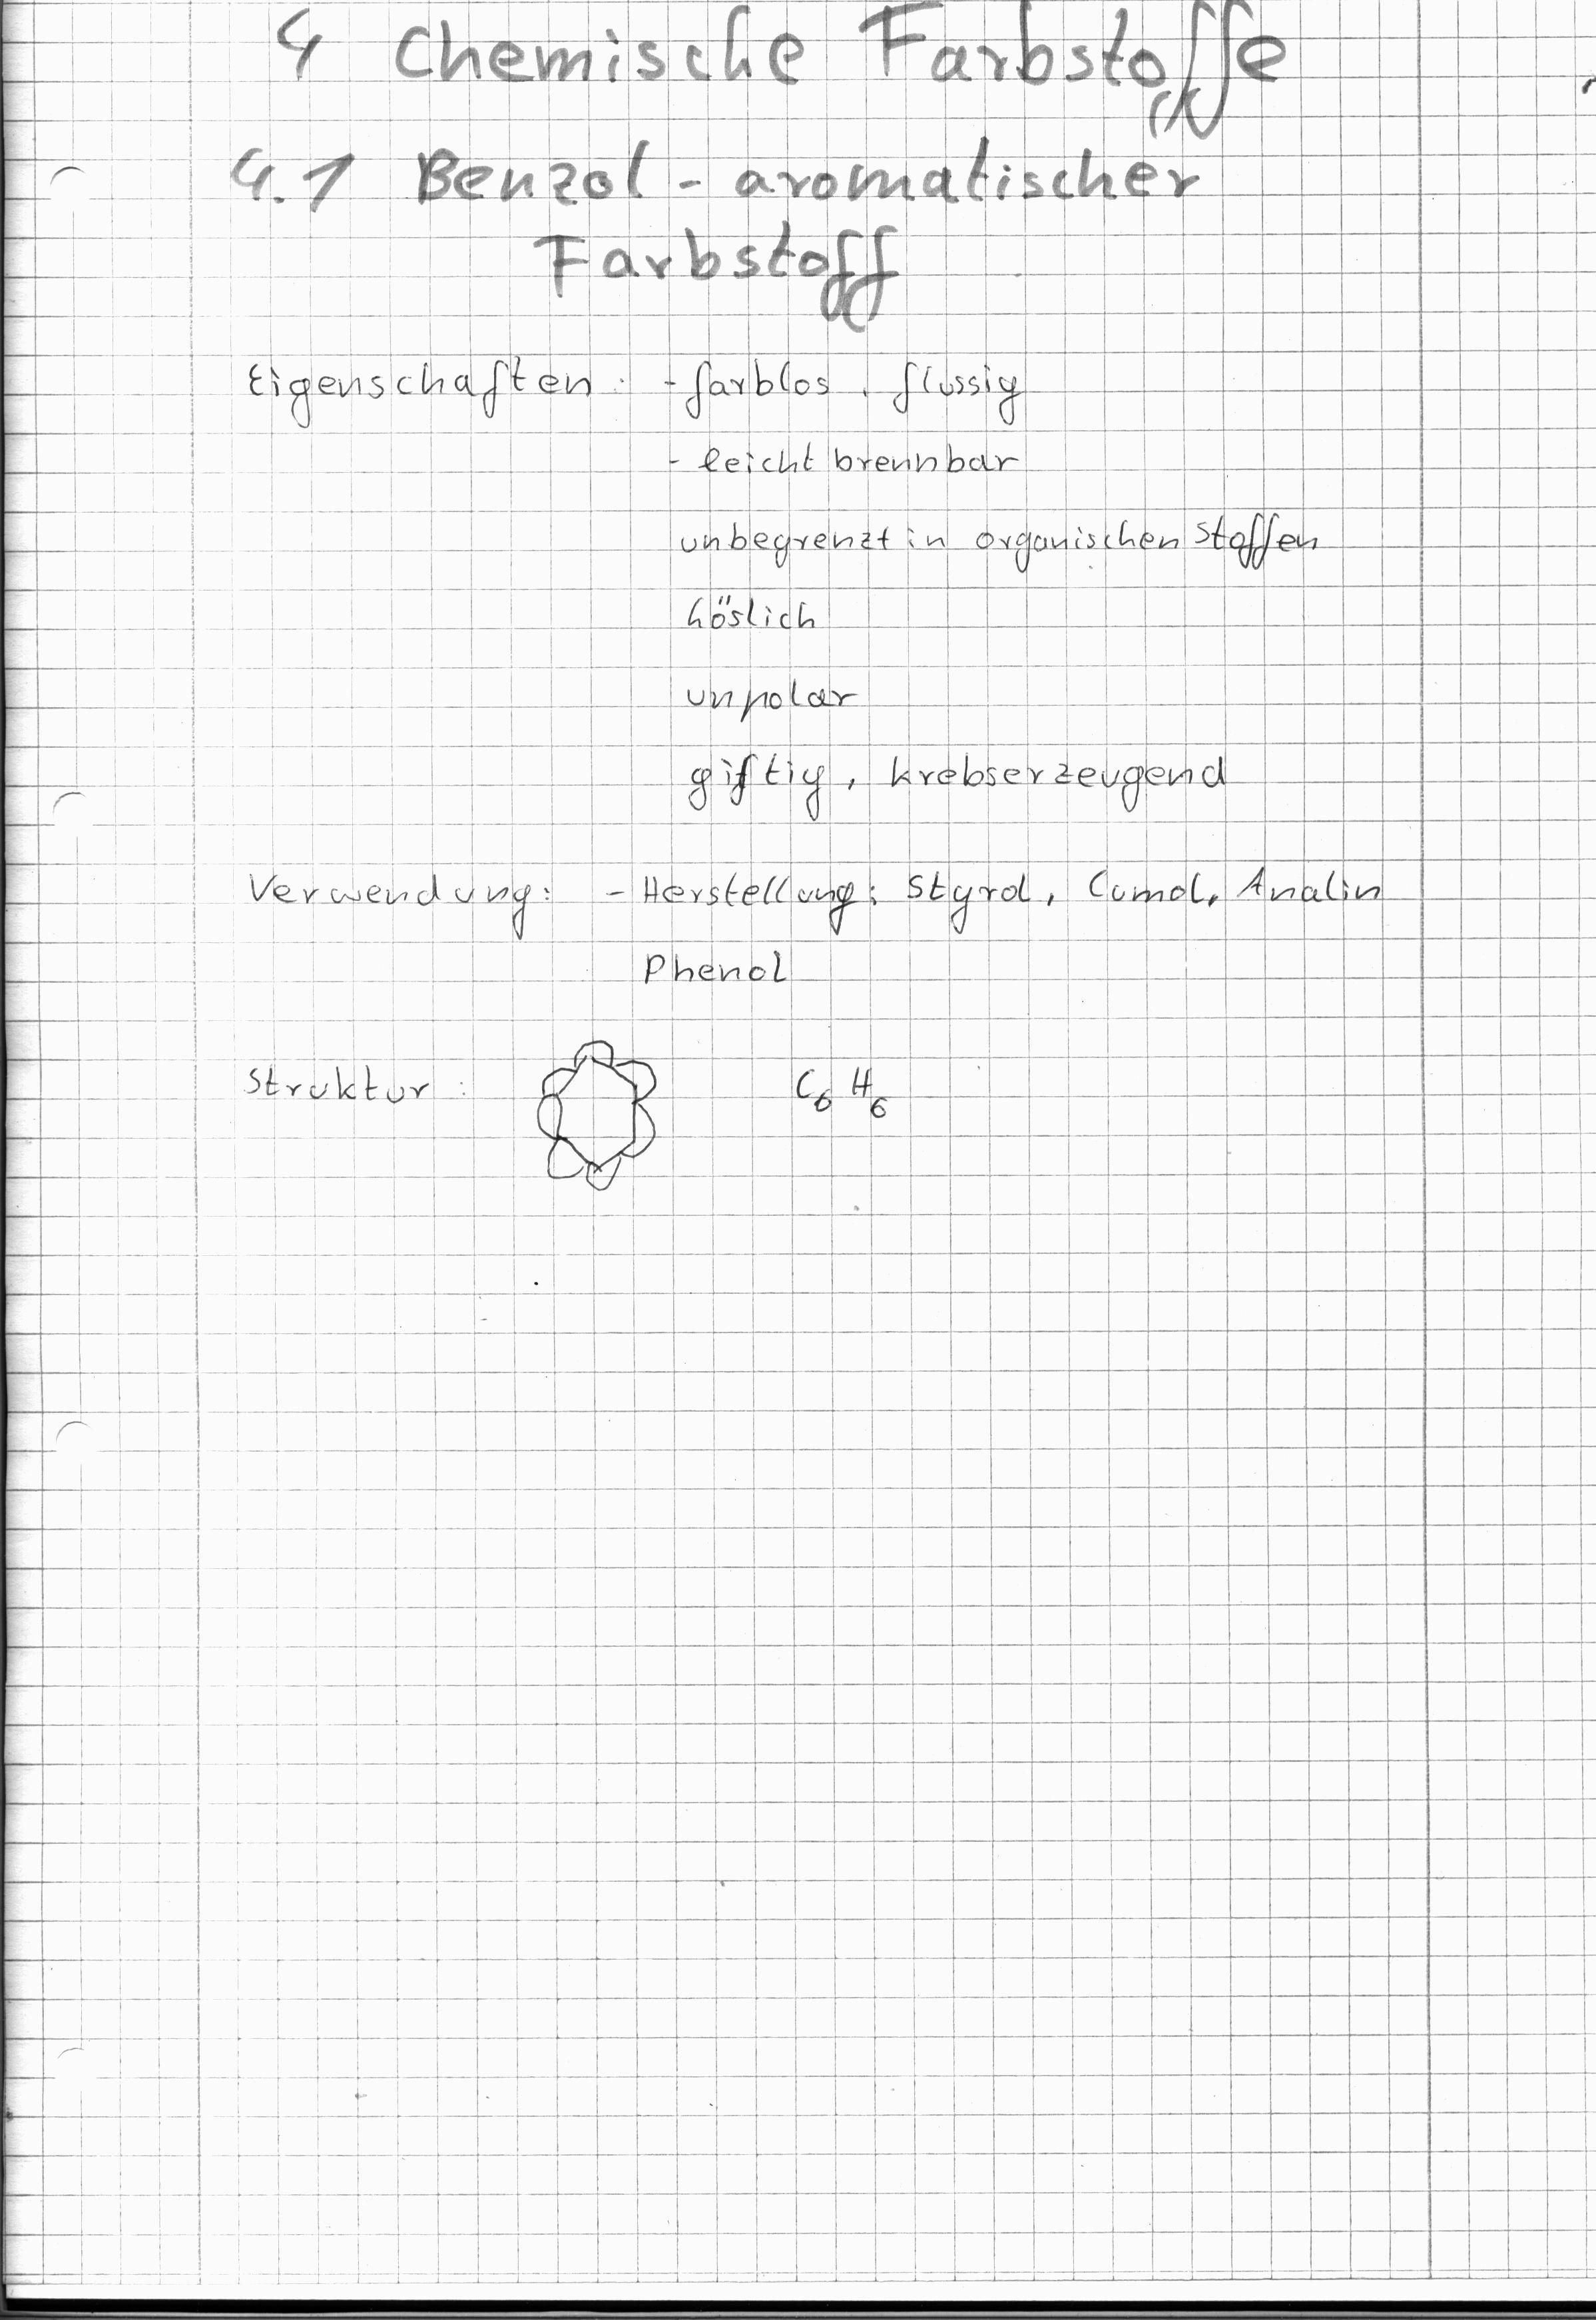word: (654, 347, 1324, 832), (232, 848, 1390, 998), (226, 336, 637, 439), (225, 1041, 487, 1125), (755, 1030, 919, 1132)
